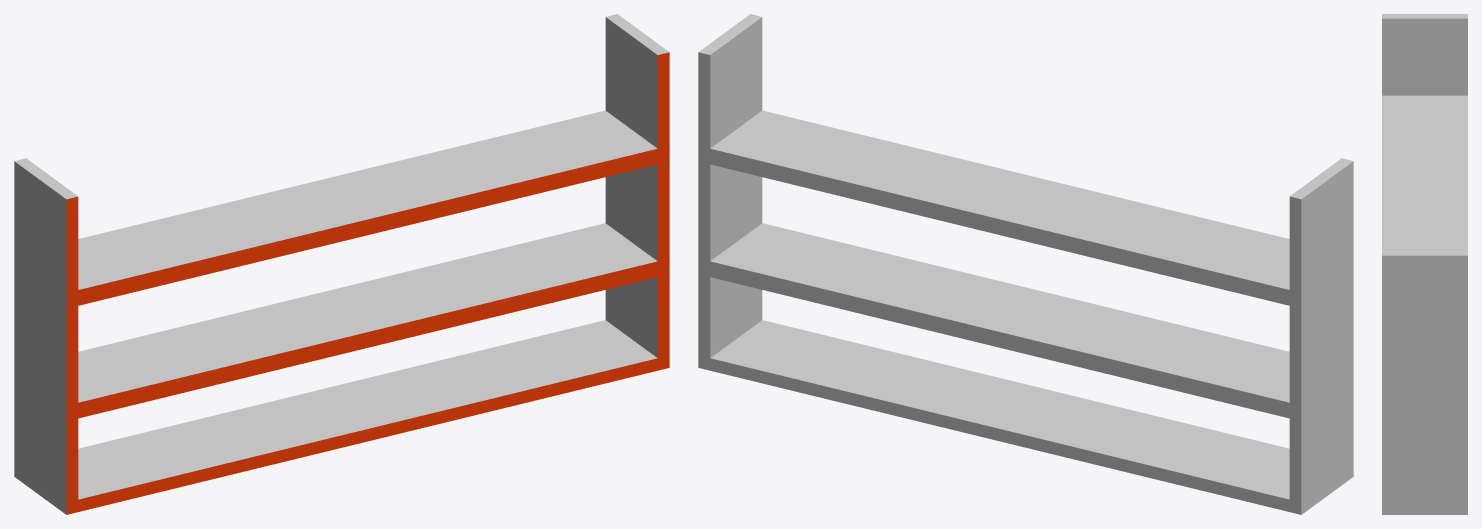
File: Estanteria.fbx
The picture shows the model from 3 angles, left to right: view 1: azimuth 30°, elevation 25°; view 2: azimuth 150°, elevation 25°; view 3: azimuth 270°, elevation 25°; orthographic projection. The views are drawn at different scales.
Parts seen in each view (by area): view 1: Model; view 2: Model; view 3: Model.
Boxes of the visible parts, box(x1,y1,x2,y2) form: Model: box(14, 14, 669, 514); Model: box(698, 14, 1353, 514); Model: box(1382, 14, 1467, 514).
Size of the model in its own units: 4000 by 2000 by 600.
